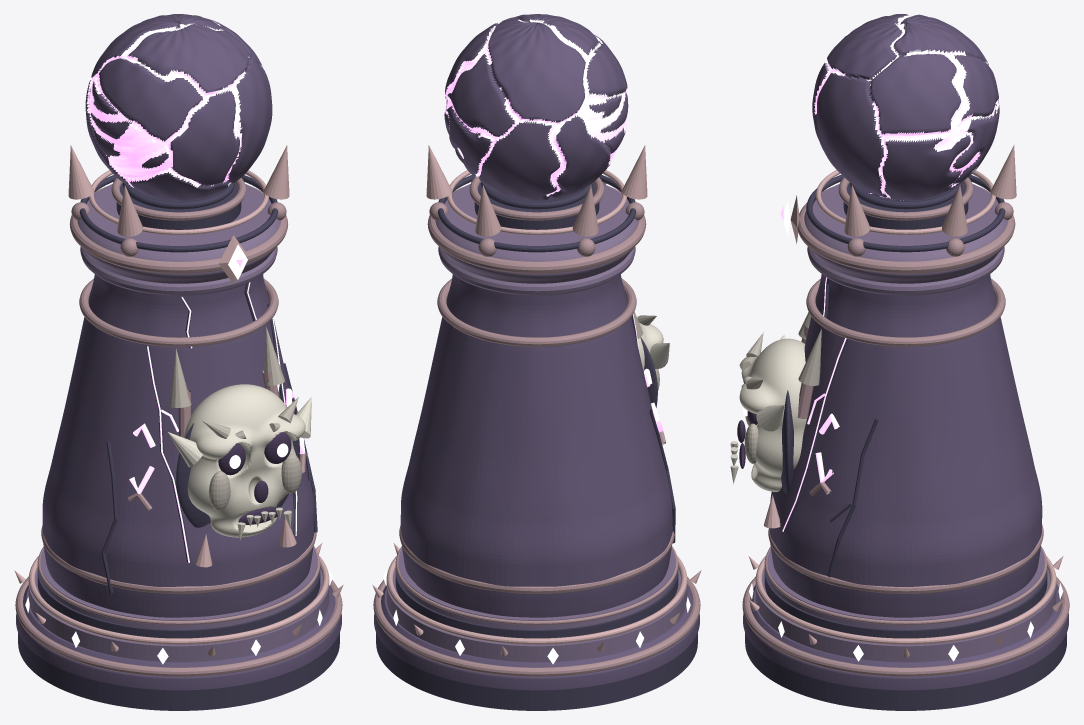
Rendered from pion_Necromantique.fbx.
The picture shows the model from 3 angles, left to right: view 1: azimuth 30°, elevation 25°; view 2: azimuth 150°, elevation 25°; view 3: azimuth 270°, elevation 25°; orthographic projection.
Parts seen in each view (by area): view 1: Corps_Pierre_Sculptee, Orbe_Coque_Sombre_Fissuree, Crane_Sculpte_Os, Socle_02_Chanfrein, Socle_01_Obsidienne, Col_Haut_01, Socle_03_Corniche, Socle_06_FiletBronze, Orbe_Fissures_Lumineuses, Socle_05_Etage, Socle_04_Gorge, Orbe_Coeur_Magique_VisibleParFissures (+24 smaller); view 2: Corps_Pierre_Sculptee, Orbe_Coque_Sombre_Fissuree, Socle_02_Chanfrein, Socle_01_Obsidienne, Col_Haut_01, Socle_03_Corniche, Socle_06_FiletBronze, Col_BordBronze, Socle_05_Etage, Socle_04_Gorge, Orbe_Fissures_Lumineuses, Socle_08_LiseretBas (+15 smaller); view 3: Corps_Pierre_Sculptee, Orbe_Coque_Sombre_Fissuree, Socle_02_Chanfrein, Socle_01_Obsidienne, Col_Haut_01, Crane_Sculpte_Os, Socle_03_Corniche, Socle_06_FiletBronze, Col_BordBronze, Socle_05_Etage, Socle_04_Gorge, Socle_08_LiseretBas (+19 smaller).
Part boxes in pixels (x1,y1,x2,y2): Corps_Pierre_Sculptee: [42, 274, 314, 617]; Orbe_Coque_Sombre_Fissuree: [85, 14, 272, 200]; Crane_Sculpte_Os: [184, 384, 305, 537]; Socle_02_Chanfrein: [16, 585, 341, 690]; Socle_01_Obsidienne: [18, 633, 339, 710]; Col_Haut_01: [77, 184, 280, 283]; Socle_03_Corniche: [28, 568, 329, 661]; Socle_06_FiletBronze: [15, 577, 342, 676]; Orbe_Fissures_Lumineuses: [86, 21, 262, 187]; Socle_05_Etage: [40, 547, 317, 629]; Socle_04_Gorge: [37, 568, 320, 638]; Orbe_Coeur_Magique_VisibleParFissures: [89, 23, 249, 186]; Corps_Pierre_Sculptee: [400, 274, 672, 617]; Orbe_Coque_Sombre_Fissuree: [444, 14, 628, 200]; Socle_02_Chanfrein: [374, 585, 699, 690]; Socle_01_Obsidienne: [376, 633, 697, 710]; Col_Haut_01: [435, 184, 638, 283]; Socle_03_Corniche: [386, 569, 687, 661]; Socle_06_FiletBronze: [373, 577, 700, 676]; Col_BordBronze: [427, 187, 646, 273]; Socle_05_Etage: [398, 548, 675, 629]; Socle_04_Gorge: [395, 568, 678, 638]; Orbe_Fissures_Lumineuses: [444, 19, 628, 188]; Socle_08_LiseretBas: [386, 556, 687, 644]; Corps_Pierre_Sculptee: [769, 274, 1042, 617]; Orbe_Coque_Sombre_Fissuree: [812, 14, 999, 200]; Socle_02_Chanfrein: [743, 585, 1068, 690]; Socle_01_Obsidienne: [745, 633, 1066, 710]; Col_Haut_01: [804, 184, 1007, 283]; Crane_Sculpte_Os: [739, 338, 806, 491]; Socle_03_Corniche: [755, 568, 1056, 661]; Socle_06_FiletBronze: [742, 576, 1069, 676]; Col_BordBronze: [797, 186, 1015, 273]; Socle_05_Etage: [767, 548, 1044, 629]; Socle_04_Gorge: [764, 568, 1047, 638]; Socle_08_LiseretBas: [755, 555, 1056, 644].
Size of the model in its own units: 62.8 by 130 by 64.3.
